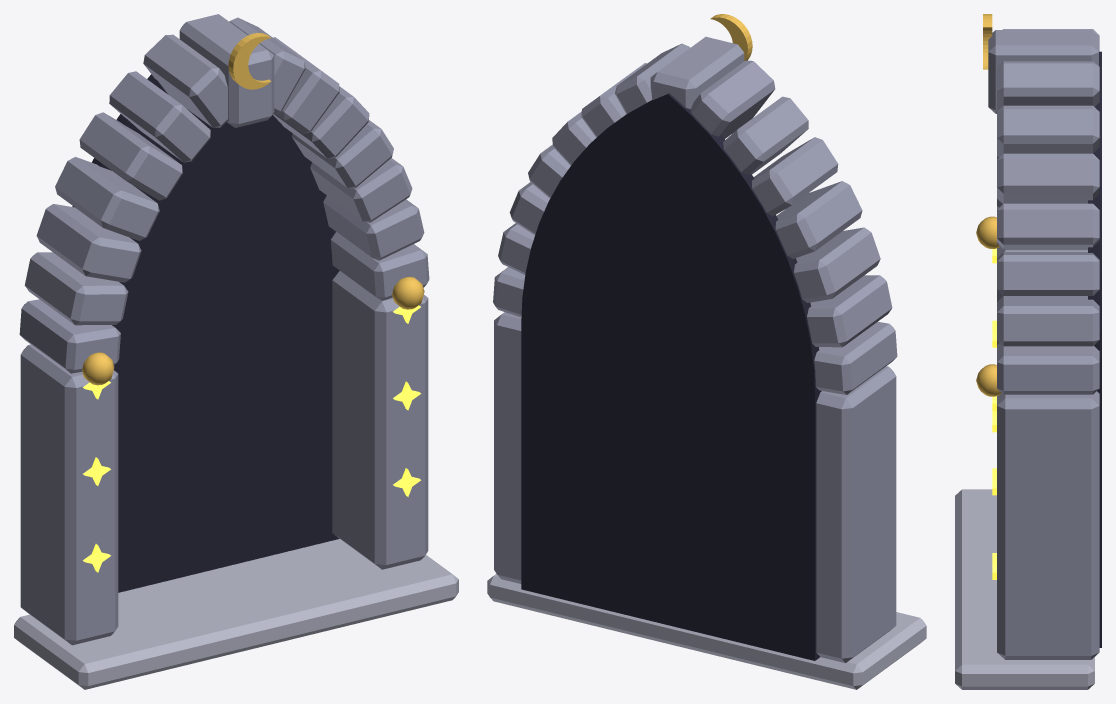
The model's file is magic_door.glb.
The picture shows the model from 3 angles, left to right: view 1: azimuth 30°, elevation 25°; view 2: azimuth 150°, elevation 25°; view 3: azimuth 270°, elevation 25°; orthographic projection. The views are drawn at different scales.
Parts seen in each view (by area): view 1: magic_door; view 2: magic_door; view 3: magic_door.
Boxes of the visible parts, x1,y1,x2,y2 form: magic_door: (14,14,458,689); magic_door: (487,14,926,689); magic_door: (955,14,1101,689).
Size of the model in its own units: 0.92 by 1.39 by 0.315.
